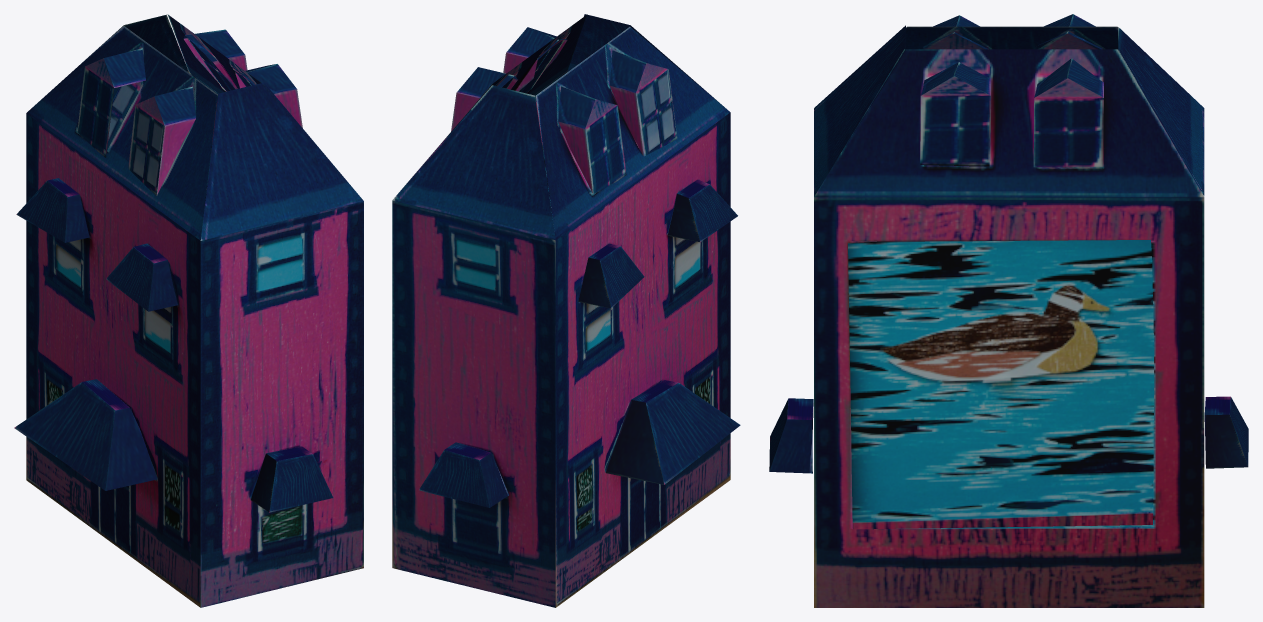
File: casa-pato-dia-1-0.glb
3 renders of one model, left to right at view 1: azimuth 30°, elevation 25°; view 2: azimuth 150°, elevation 25°; view 3: azimuth 270°, elevation 25°, orthographic. The views are drawn at different scales.
Visible parts, largest first — view 1: Cube; view 2: Cube; view 3: Cube.
Boxes of the visible parts, bbox=[...] form: Cube: bbox=[14, 14, 363, 607]; Cube: bbox=[392, 14, 740, 607]; Cube: bbox=[769, 14, 1248, 607].
Bounding box in the file's own units: 0.3698 × 0.7425 × 0.6135.
1 material, 1 textured.
